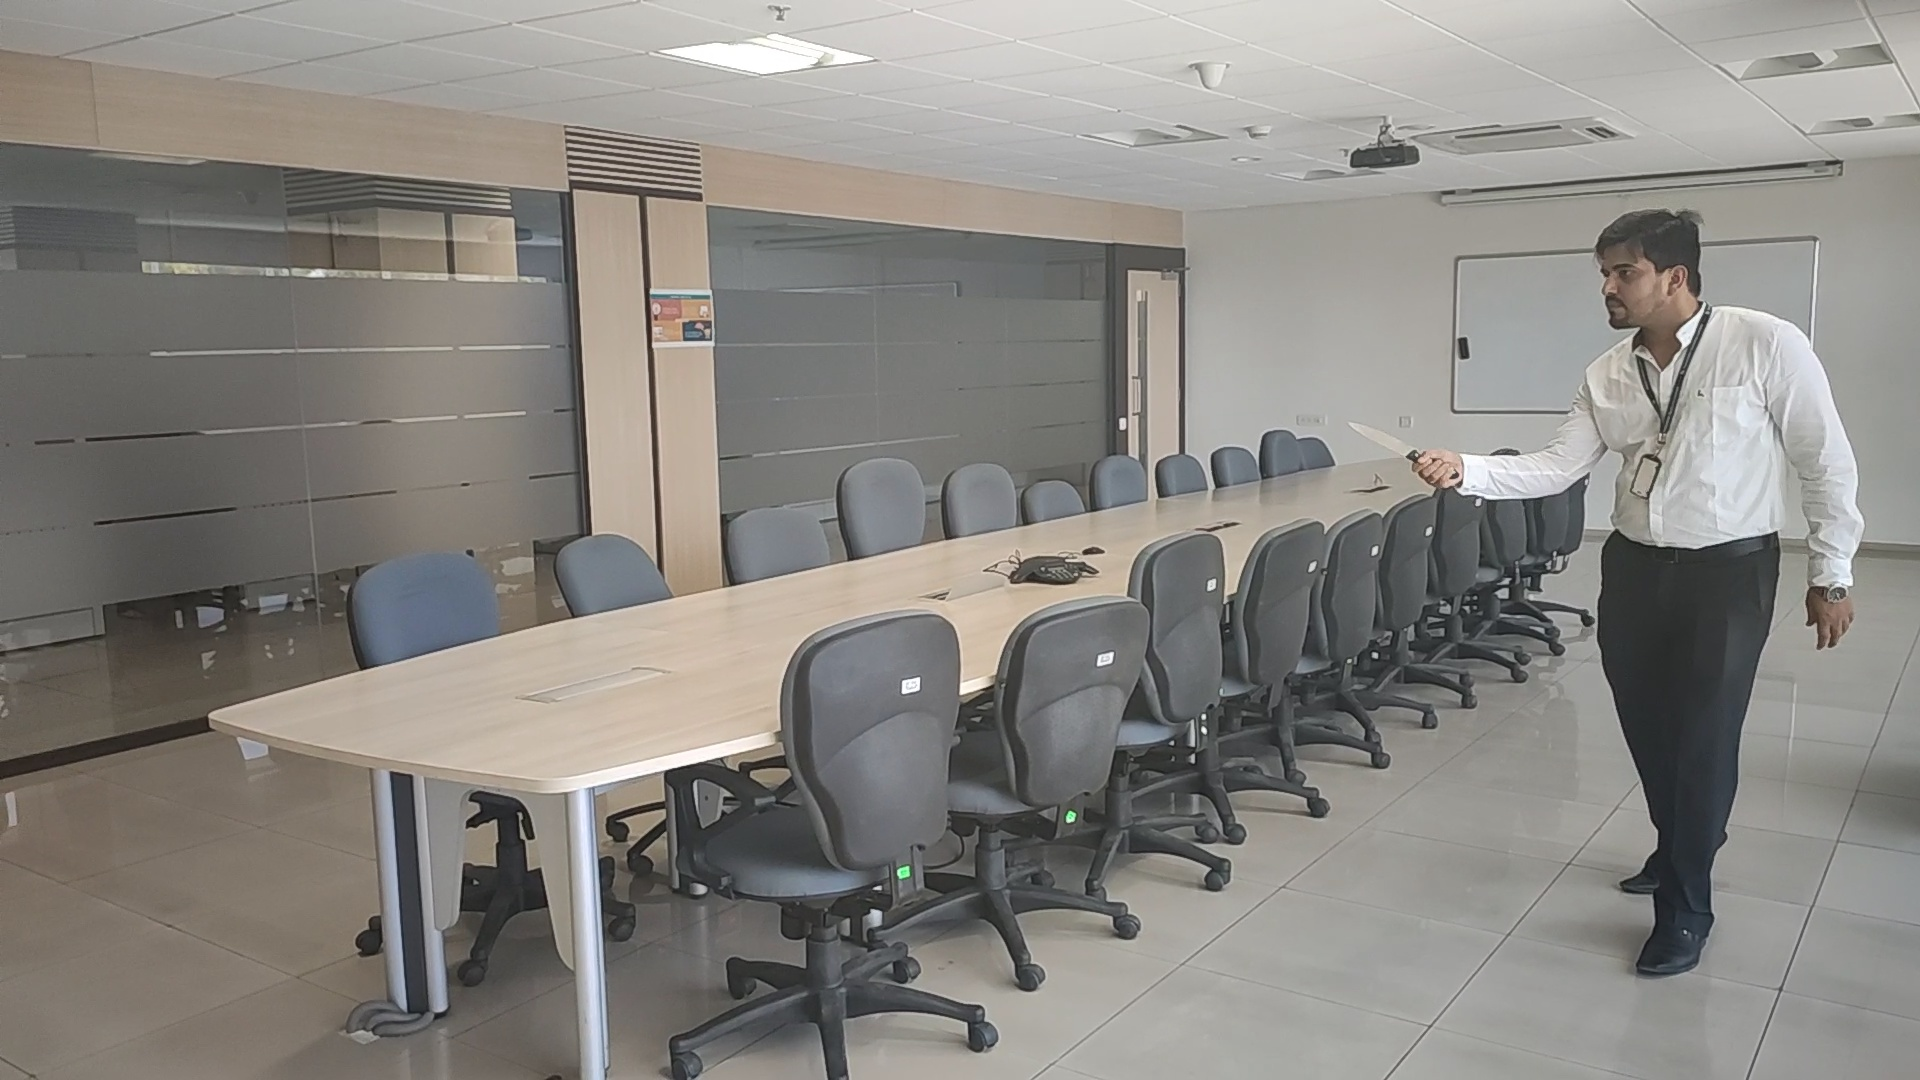knife: (1346, 421, 1418, 462)
